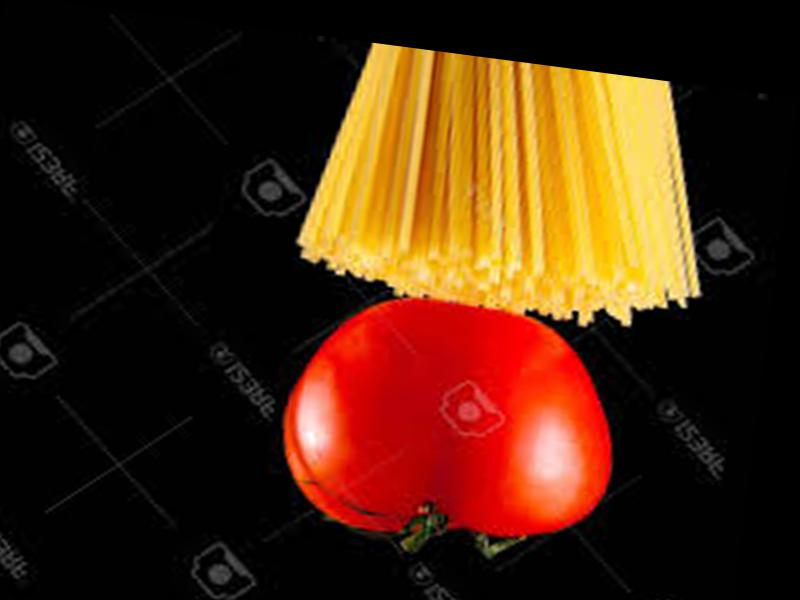Tomato: (276, 281, 628, 561)
